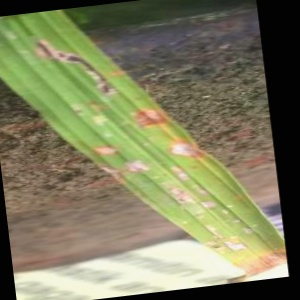Brown_Spot: (35, 28, 116, 97), (164, 132, 207, 164), (111, 152, 154, 181), (135, 100, 169, 133), (96, 134, 125, 165)
